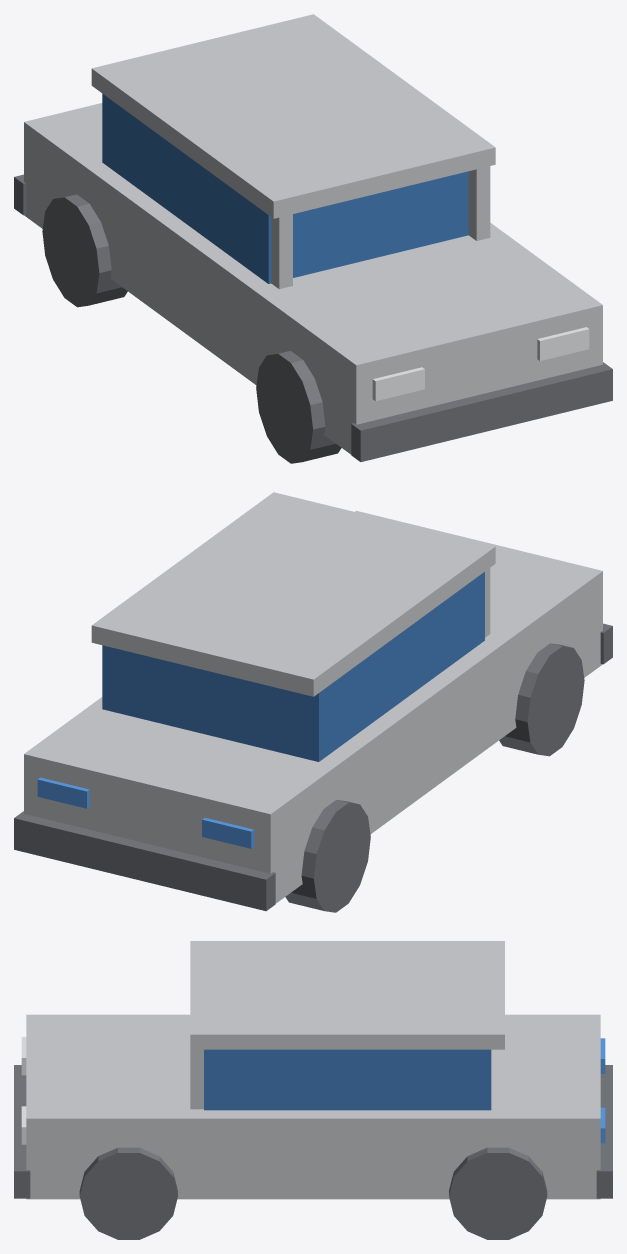
Rendered from Car_02.fbx.
The picture shows the model from 3 angles, top to bottom: view 1: azimuth 30°, elevation 25°; view 2: azimuth 150°, elevation 25°; view 3: azimuth 270°, elevation 25°; orthographic projection. The views are drawn at different scales.
Parts seen in each view (by area): view 1: Car_02_Structure, Car_02_Trim, Car_02_Windows, Car_02_Marking; view 2: Car_02_Structure, Car_02_Windows, Car_02_Trim, Car_02_Accent; view 3: Car_02_Structure, Car_02_Windows, Car_02_Trim, Car_02_Marking, Car_02_Accent.
Boxes of the visible parts, box(x1,y1,x2,y2) form: Car_02_Structure: box(24, 14, 602, 454); Car_02_Trim: box(14, 174, 612, 463); Car_02_Windows: box(102, 93, 468, 283); Car_02_Marking: box(372, 327, 589, 401); Car_02_Structure: box(24, 492, 602, 903); Car_02_Windows: box(102, 572, 484, 761); Car_02_Trim: box(14, 623, 612, 912); Car_02_Accent: box(37, 777, 254, 848); Car_02_Structure: box(26, 941, 600, 1199); Car_02_Windows: box(204, 1049, 491, 1110); Car_02_Trim: box(14, 1065, 612, 1239); Car_02_Marking: box(21, 1037, 26, 1144); Car_02_Accent: box(600, 1038, 605, 1143).
Size of the model in its own units: 1.98 by 1.57 by 4.38.
